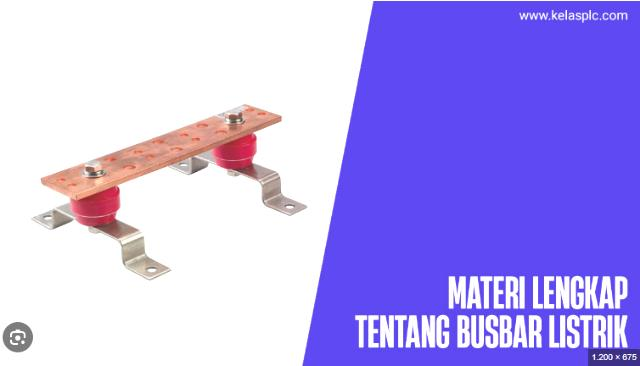busbar: (31, 102, 307, 281)
